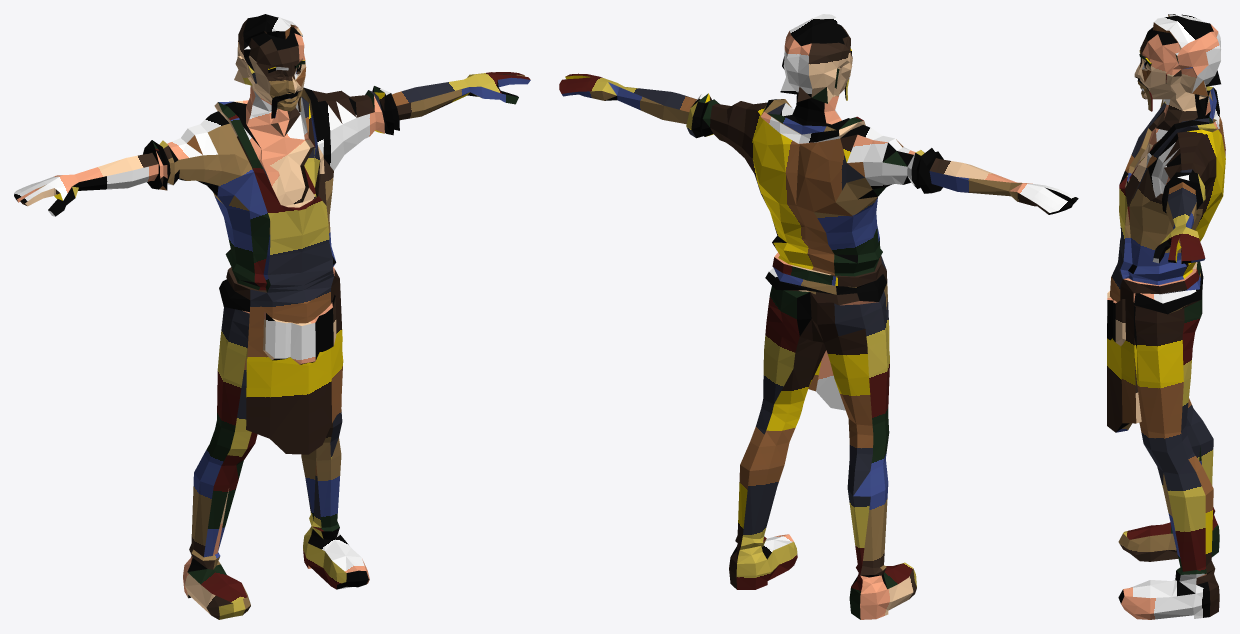
The model's file is pessent.glb.
The picture shows the model from 3 angles, left to right: view 1: azimuth 30°, elevation 25°; view 2: azimuth 150°, elevation 25°; view 3: azimuth 270°, elevation 25°; orthographic projection.
Visible parts, largest first — view 1: peasant_1; view 2: peasant_1; view 3: peasant_1.
Boxes of the visible parts, x1,y1,x2,y2 form: peasant_1: (14, 14, 530, 619); peasant_1: (559, 14, 1078, 619); peasant_1: (1107, 14, 1225, 619).
Size of the model in its own units: 1.67 by 1.79 by 0.3406.
Materials: 1 (1 with a texture image).
